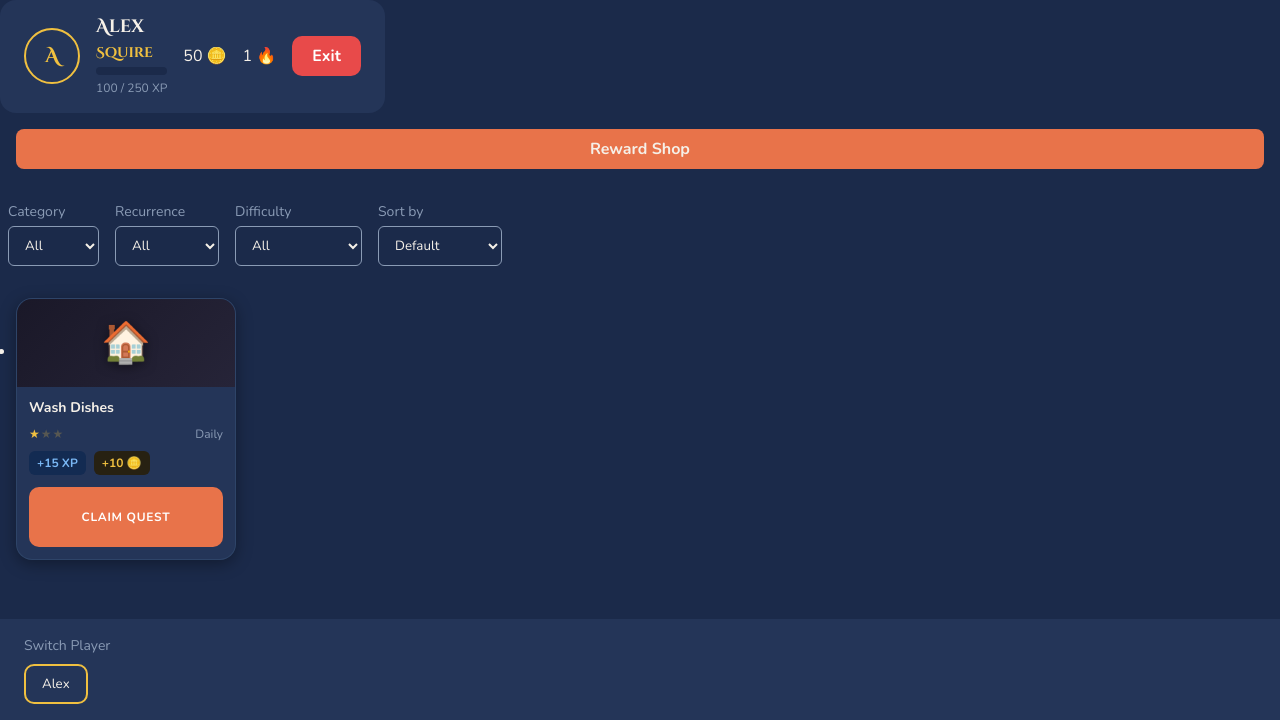
Test: QuestBoard › clicking 'Open Reward Shop' button renders RewardShop
Step 1. Click the button with aria-label "Open Reward Shop" → (640, 149), box [16,129,1264,169]
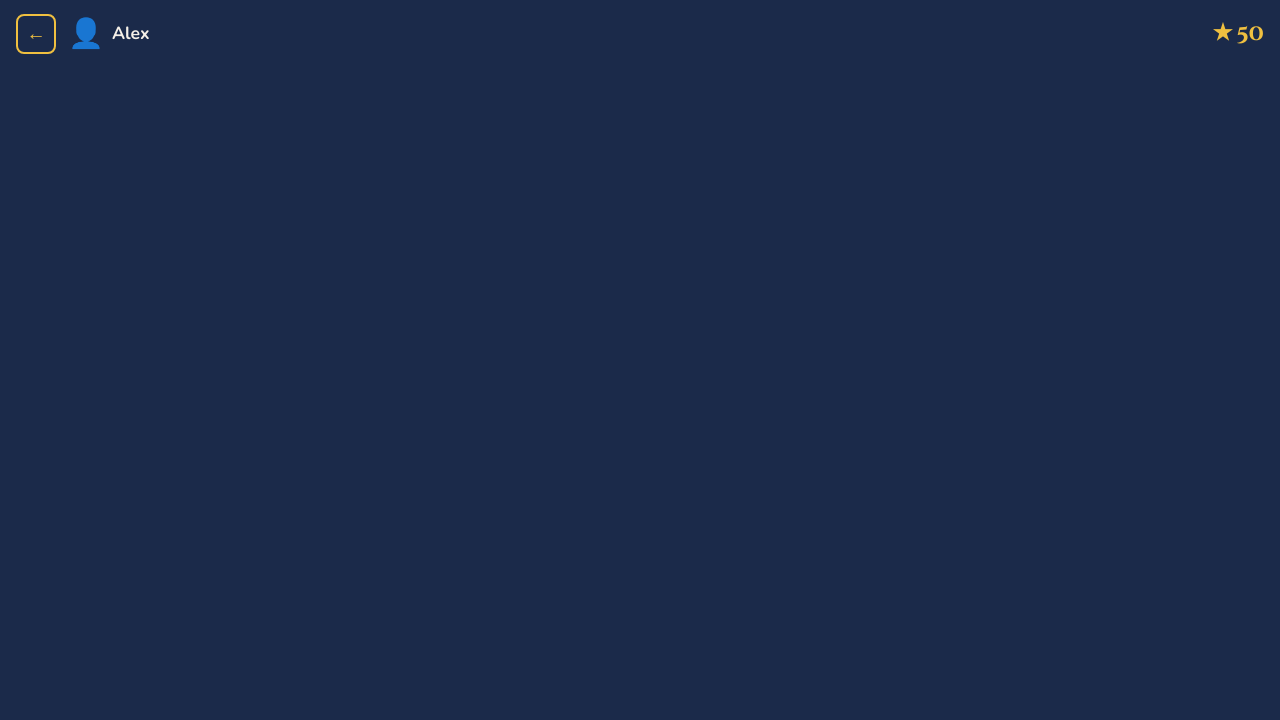
expect the button named "Back to Quest Board" is shown: met, box [16,14,56,54]
